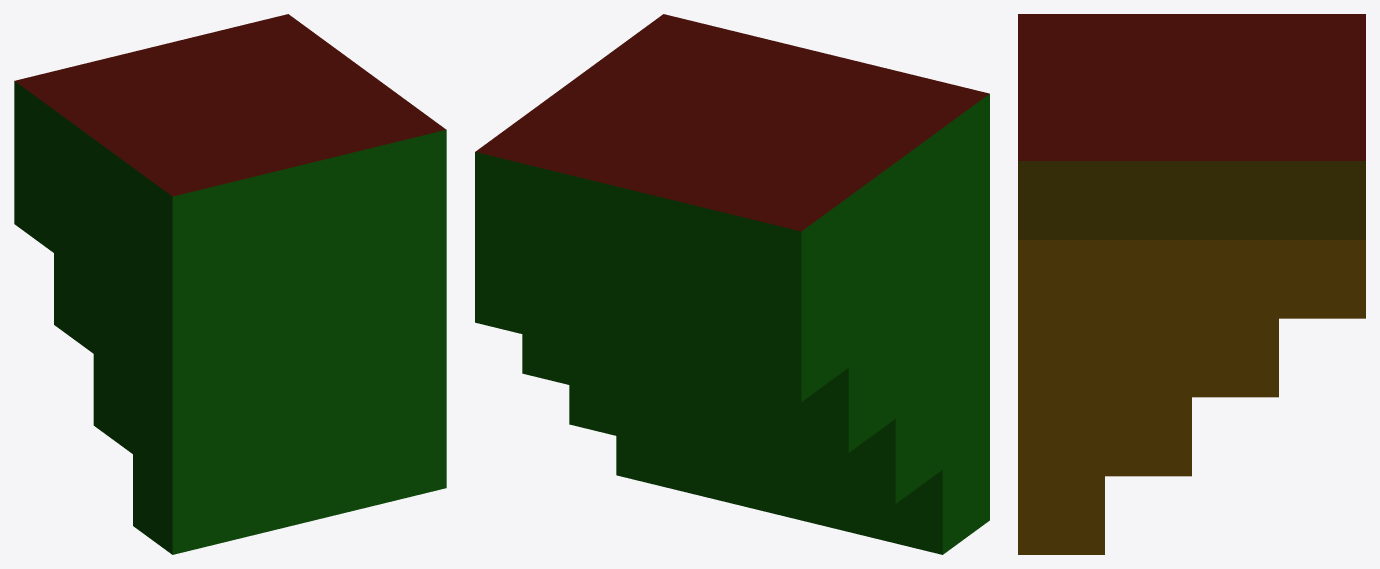
File: block_20.fbx
3 renders of one model, left to right at view 1: azimuth 30°, elevation 25°; view 2: azimuth 150°, elevation 25°; view 3: azimuth 270°, elevation 25°, orthographic. The views are drawn at different scales.
Parts seen in each view (by area): view 1: box; view 2: box; view 3: box.
Part boxes in pixels (bbox=[...]): box: bbox=[14, 14, 446, 554]; box: bbox=[475, 14, 989, 554]; box: bbox=[1018, 14, 1365, 554].
Bounding box in the file's own units: 400 × 400 × 500.
1 material, 1 textured.
